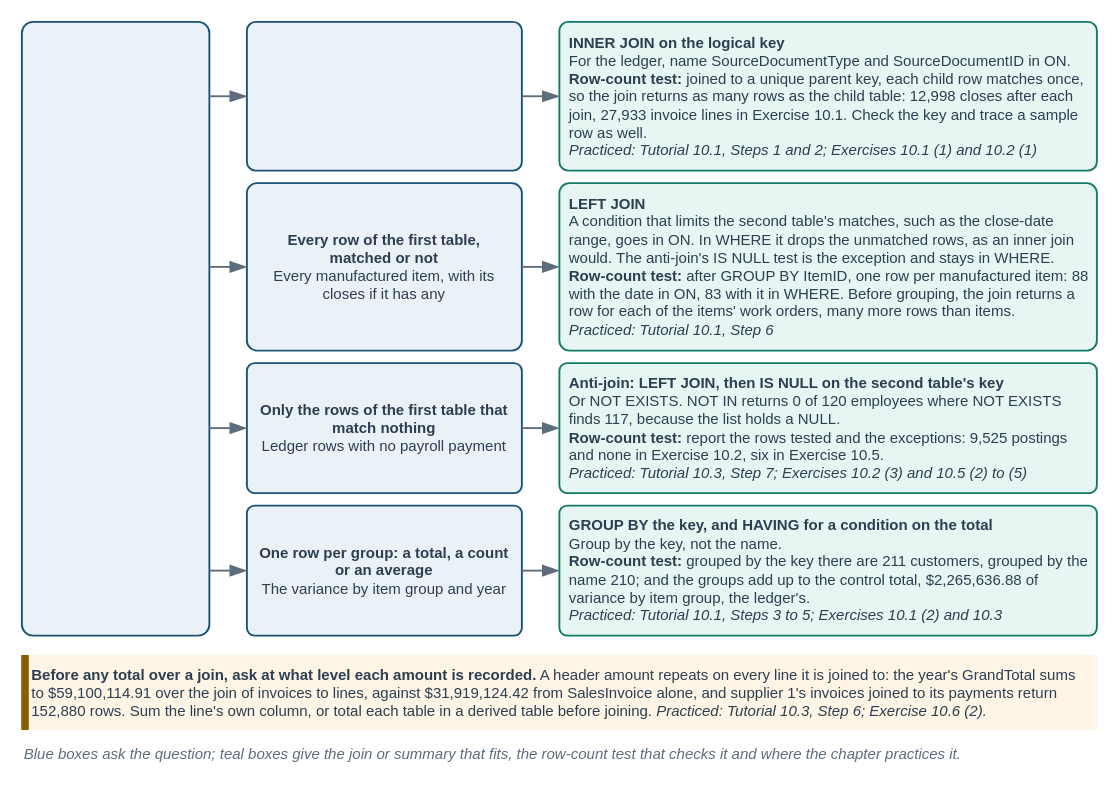
Some shapes in this 1120 by 786 pixel diagram are drawn without their labels. Here are the shapes that lost their labels. From the top down, the centre of each, then its label:
At (383,95): "Only the rows that match in both tables Each close with its work order and item".
At (115,328): "A question about two or more tables What should the result hold?".
